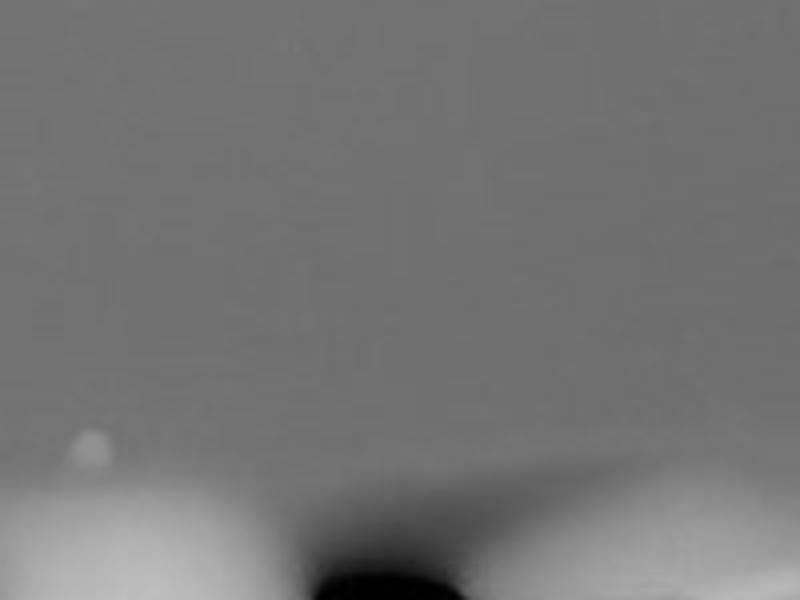defect: (310, 558, 468, 600)
